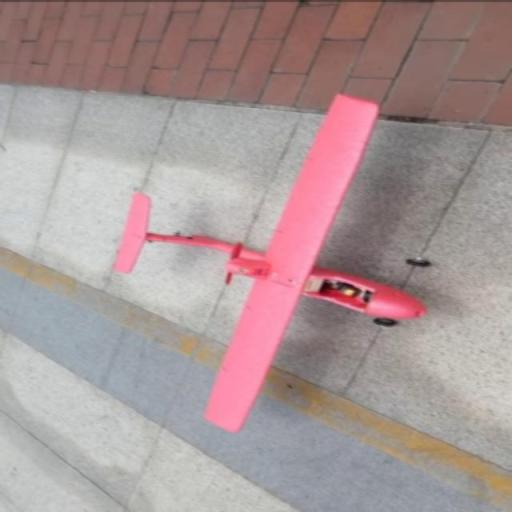uav: (110, 92, 428, 434)
